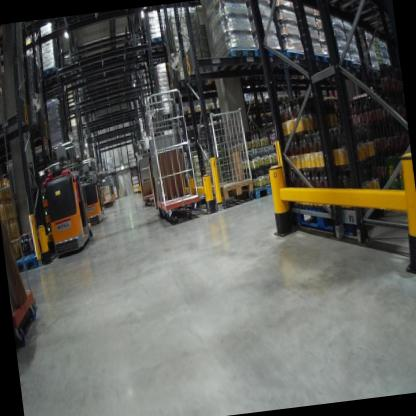pallet: (289, 192, 356, 246), (211, 40, 260, 82), (243, 39, 289, 82), (199, 177, 257, 208), (272, 47, 308, 82), (245, 177, 285, 203), (11, 243, 45, 272), (298, 51, 327, 82), (141, 29, 169, 56), (40, 61, 60, 89), (325, 51, 353, 69), (178, 75, 209, 91), (28, 150, 51, 169), (194, 98, 214, 115), (175, 102, 196, 118), (0, 117, 9, 151), (206, 72, 222, 89), (247, 92, 263, 107), (262, 91, 278, 106), (347, 61, 363, 72), (276, 92, 289, 104)
pallet_truck: (29, 139, 101, 268), (73, 145, 108, 231), (101, 173, 119, 210)
